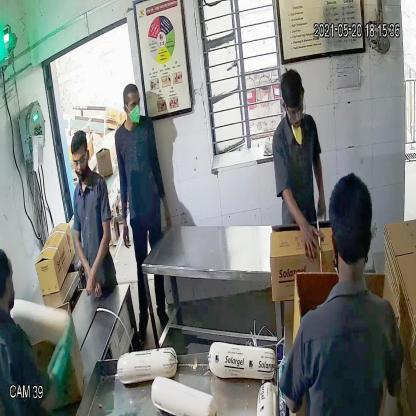goggles: (281, 96, 307, 126), (70, 151, 88, 169)
no_goggles: (121, 96, 143, 110)
